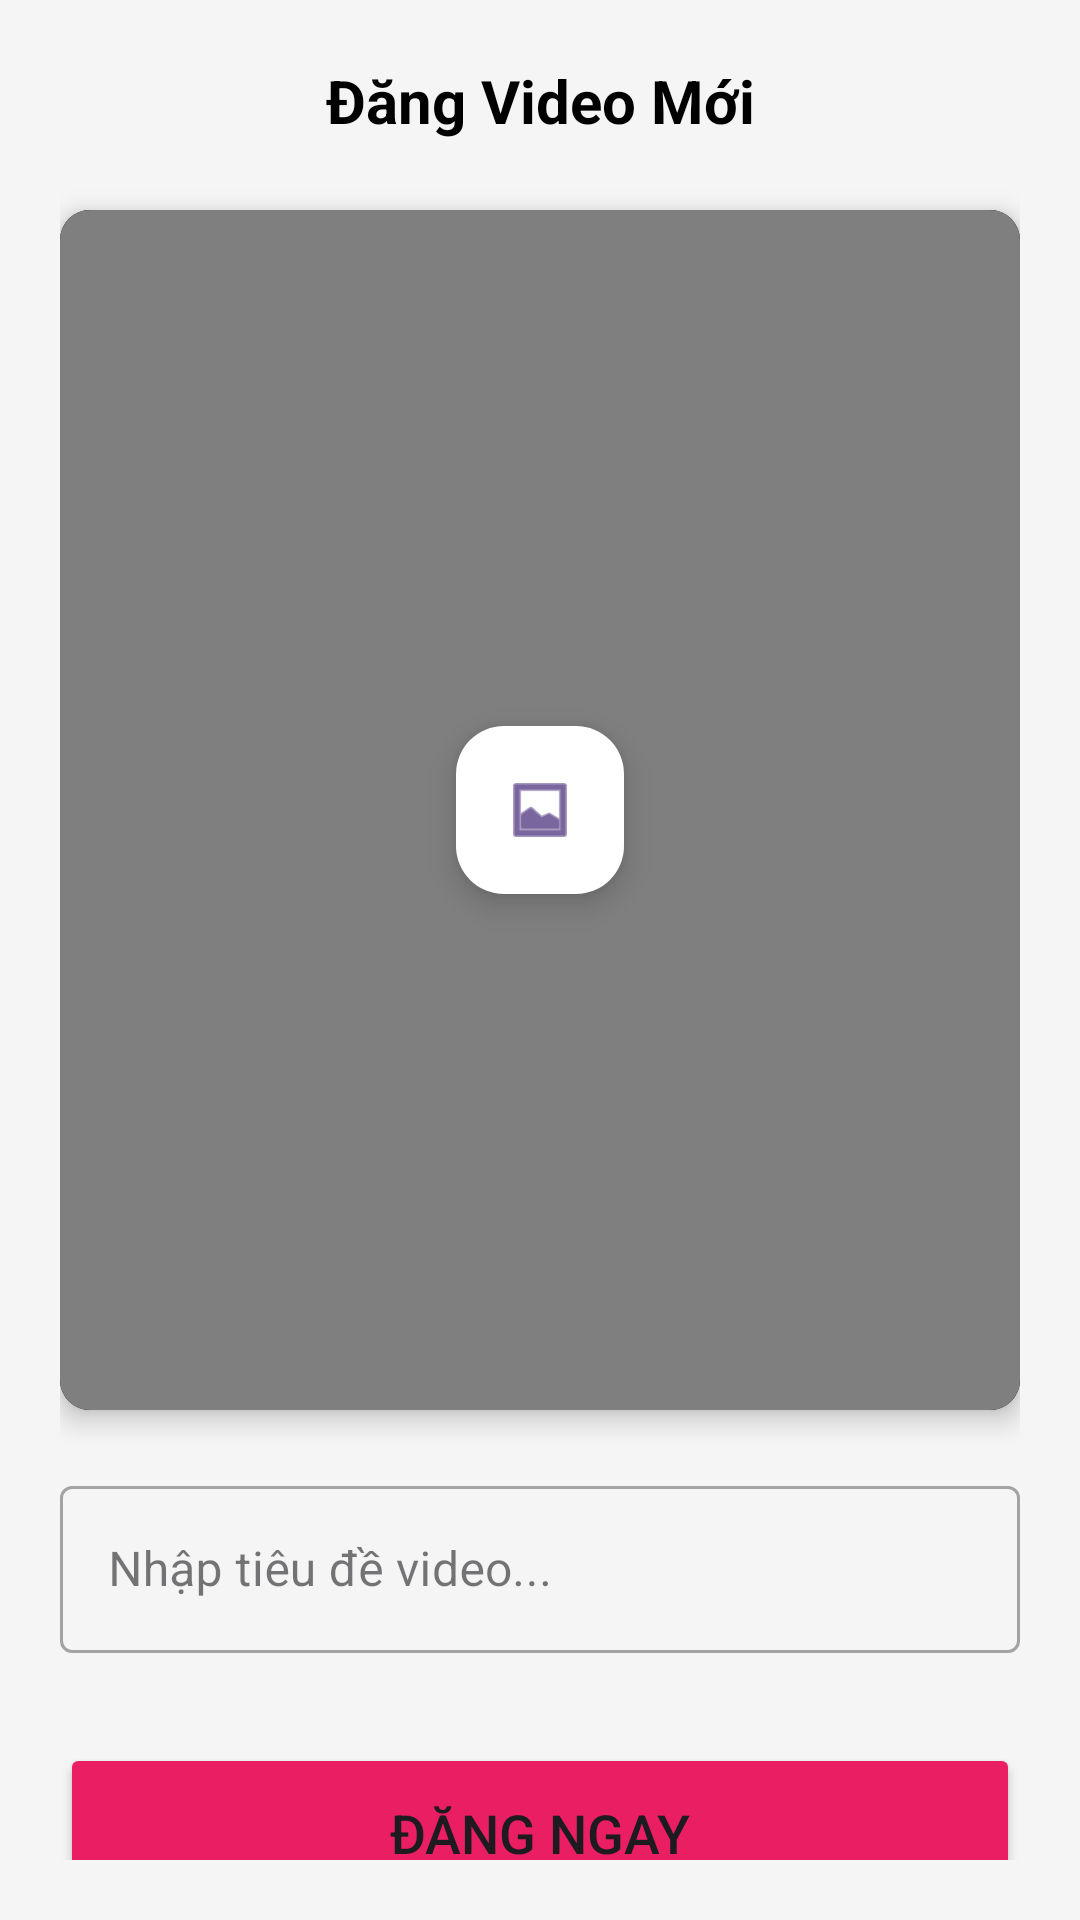

Icons on this 1080 × 1920 Android screen, each with its box as (x1, y1, x2, y2):
gallery: (456, 726, 624, 894)
